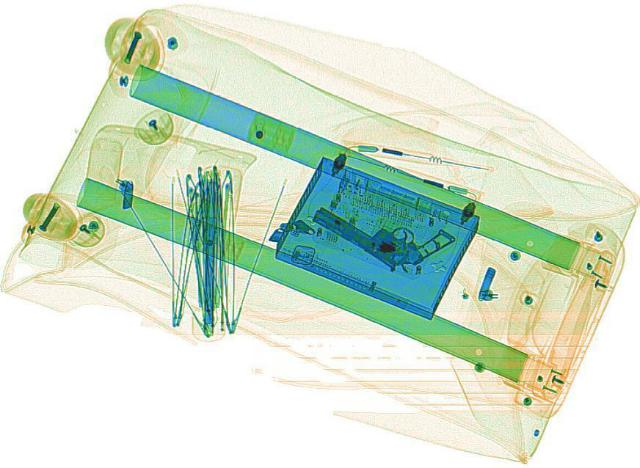Gun: (304, 176, 458, 276)
